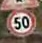limite 50: (4, 10, 37, 37)
